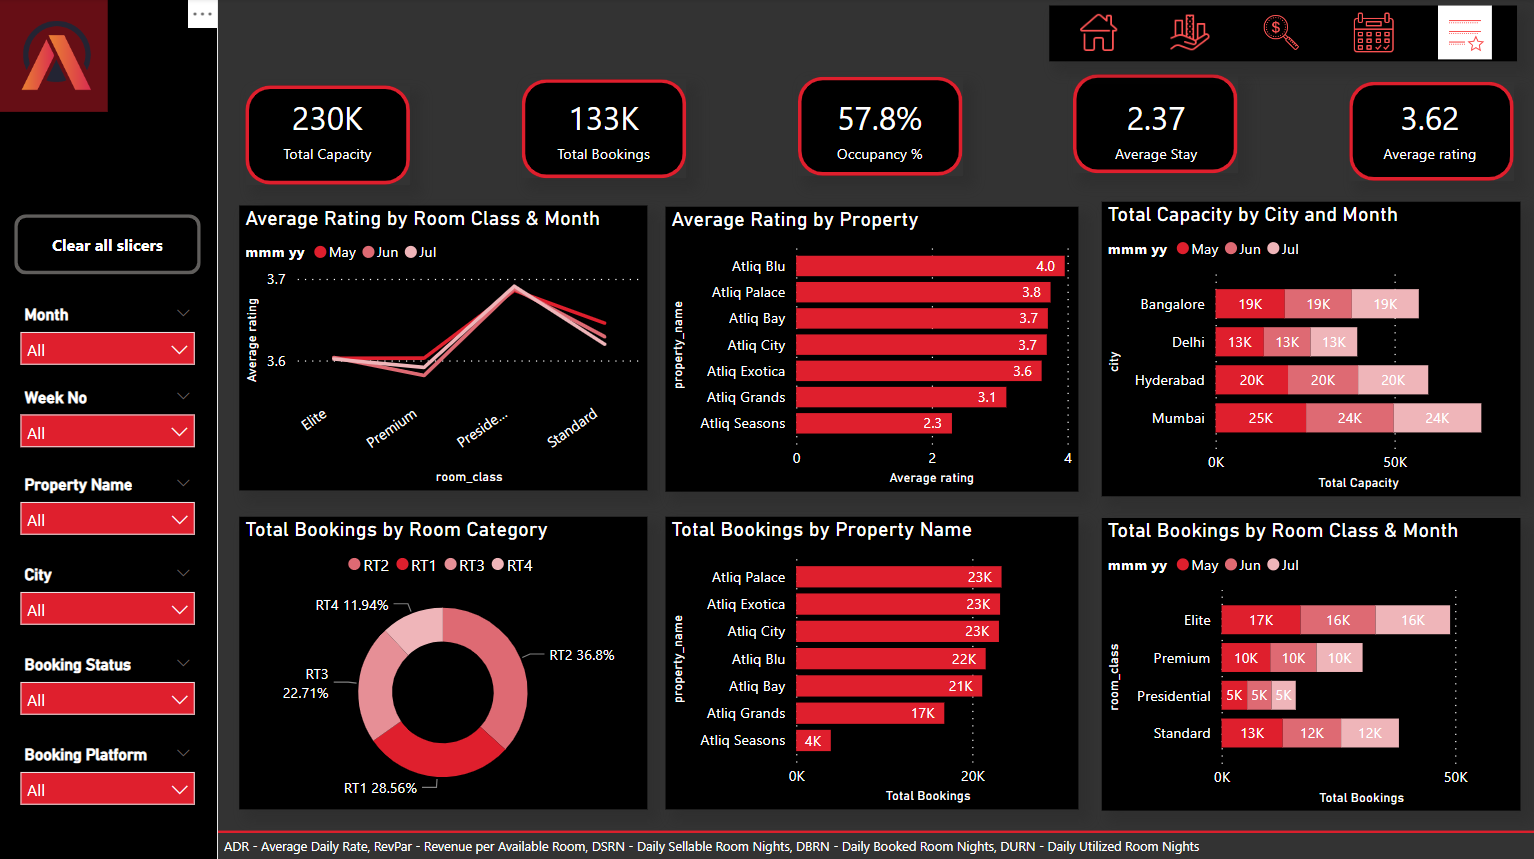

What the dashboard file says about the page in this screenshot:
{"tool":"powerbi","page":{"name":"Rating","canvas":[1280,720],"ordinal":5},"visuals":[{"type":"shape","box":[0,0,182.5,717.5],"z":1000},{"type":"slicer","fields":{"Values":["dim_hotels.city"]},"box":[8.8,466.6,165.2,58.9],"z":3000},{"type":"slicer","fields":{"Values":["dim_hotels.property_name"]},"box":[8.8,392.1,165.2,58.9],"z":4000},{"type":"slicer","fields":{"Values":["fact_bookings.booking_platform"]},"box":[8.8,615.8,165.2,58.9],"z":6000},{"type":"slicer","fields":{"Values":["fact_bookings.booking_status"]},"box":[8.8,541.2,165.2,58.9],"z":8000},{"type":"slicer","fields":{"Values":["dim_date.mmm yy"]},"box":[8.8,250.7,165,60],"z":9000},{"type":"textbox","box":[182.5,690,1097.5,30],"z":10000},{"type":"shape","box":[182.5,683.8,1097.5,18.8],"z":11000},{"type":"lineChart","title":"Average Rating by Room Class & Month","fields":{"Category":["dim_rooms.room_class"],"Series":["dim_date.mmm yy"],"Y":["Key_measures.Average rating"]},"box":[200,172.3,338.9,236.7],"z":12000},{"type":"barChart","title":"Average Rating by Property","fields":{"Category":["dim_hotels.property_name"],"Y":["Key_measures.Average rating"]},"box":[554.4,173.4,343.3,236.7],"z":13000},{"type":"barChart","title":"Total Capacity by City and Month","fields":{"Category":["dim_hotels.city"],"Series":["dim_date.mmm yy"],"Y":["Key_measures.Total Capacity"]},"box":[917.8,169,347.8,244.4],"z":14000},{"type":"barChart","title":"Total Bookings by Room Class & Month","fields":{"Category":["dim_rooms.room_class"],"Series":["dim_date.mmm yy"],"Y":["Key_measures.Total Bookings"]},"box":[917.8,432.2,347.8,243.3],"z":15000},{"type":"barChart","title":"Total Bookings by Property Name","fields":{"Category":["dim_hotels.property_name"],"Y":["Key_measures.Total Bookings"]},"box":[554.4,431.1,343.3,243.3],"z":16000},{"type":"donutChart","title":"Total Bookings by Room Category","fields":{"Category":["fact_bookings.room_category"],"Y":["Key_measures.Total Bookings"]},"box":[200,431.1,338.9,243.3],"z":17000},{"type":"shape","box":[206.2,72.2,136.7,82.2],"z":18000},{"type":"card","fields":{"Values":["Key_measures.Total Capacity"]},"box":[223.3,73.3,101.1,70],"z":19000},{"type":"shape","box":[1122.9,69.9,136.7,82.2],"z":20000},{"type":"card","fields":{"Values":["Key_measures.Average rating"]},"box":[1140,73.3,101.1,70],"z":21000},{"type":"shape","box":[893.7,62.9,136.7,82.2],"z":22000},{"type":"card","fields":{"Values":["Key_measures.Average Stay by Days"]},"box":[912.2,73.3,101.1,70],"z":23000},{"type":"shape","box":[664.6,65.2,136.7,82.2],"z":24000},{"type":"card","fields":{"Values":["Key_measures.Occupancy %"]},"box":[682.2,73.3,101.1,70],"z":25000},{"type":"shape","box":[435.4,67.6,136.7,82.2],"z":26000},{"type":"card","fields":{"Values":["Key_measures.Total Bookings"]},"box":[453.3,73.3,101.1,70],"z":27000},{"type":"image","title":"atliq","box":[0,1.2,91.2,93.8],"z":28000},{"type":"slicer","fields":{"Values":["dim_date.week no"]},"box":[8.8,318.8,165,60],"z":29000},{"type":"actionButton","box":[13.8,180,155,50],"z":30000},{"type":"shape","box":[873.5,5.9,388.7,46.2],"z":31000},{"type":"image","box":[892.3,5.9,45,45],"z":32000},{"type":"image","box":[968.5,6.2,45,45],"z":33000},{"type":"image","box":[1196.9,6.1,45,45],"z":34000},{"type":"image","box":[1120.8,6.4,45,45],"z":35000},{"type":"image","box":[1044.6,6.3,45,45],"z":36000}]}

Visuals, with their boxes on the page's 1280x720 design canvas (x1, y1, x2, y2). These are canvas units, not pixel positions in the 1534x859 screenshot, which may show the page scaled, cropped or inside an application window:
shape: l=0, t=0, r=182, b=718
slicer - dim_hotels.city: l=9, t=467, r=174, b=526
slicer - dim_hotels.property_name: l=9, t=392, r=174, b=451
slicer - fact_bookings.booking_platform: l=9, t=616, r=174, b=675
slicer - fact_bookings.booking_status: l=9, t=541, r=174, b=600
slicer - dim_date.mmm yy: l=9, t=251, r=174, b=311
textbox: l=182, t=690, r=1280, b=720
shape: l=182, t=684, r=1280, b=703
"Average Rating by Room Class & Month" lineChart: l=200, t=172, r=539, b=409
"Average Rating by Property" barChart: l=554, t=173, r=898, b=410
"Total Capacity by City and Month" barChart: l=918, t=169, r=1266, b=413
"Total Bookings by Room Class & Month" barChart: l=918, t=432, r=1266, b=676
"Total Bookings by Property Name" barChart: l=554, t=431, r=898, b=674
"Total Bookings by Room Category" donutChart: l=200, t=431, r=539, b=674
shape: l=206, t=72, r=343, b=154
card - Key_measures.Total Capacity: l=223, t=73, r=324, b=143
shape: l=1123, t=70, r=1260, b=152
card - Key_measures.Average rating: l=1140, t=73, r=1241, b=143
shape: l=894, t=63, r=1030, b=145
card - Key_measures.Average Stay by Days: l=912, t=73, r=1013, b=143
shape: l=665, t=65, r=801, b=147
card - Key_measures.Occupancy %: l=682, t=73, r=783, b=143
shape: l=435, t=68, r=572, b=150
card - Key_measures.Total Bookings: l=453, t=73, r=554, b=143
"atliq" image: l=0, t=1, r=91, b=95
slicer - dim_date.week no: l=9, t=319, r=174, b=379
actionButton: l=14, t=180, r=169, b=230
shape: l=874, t=6, r=1262, b=52
image: l=892, t=6, r=937, b=51
image: l=968, t=6, r=1014, b=51
image: l=1197, t=6, r=1242, b=51
image: l=1121, t=6, r=1166, b=51
image: l=1045, t=6, r=1090, b=51
